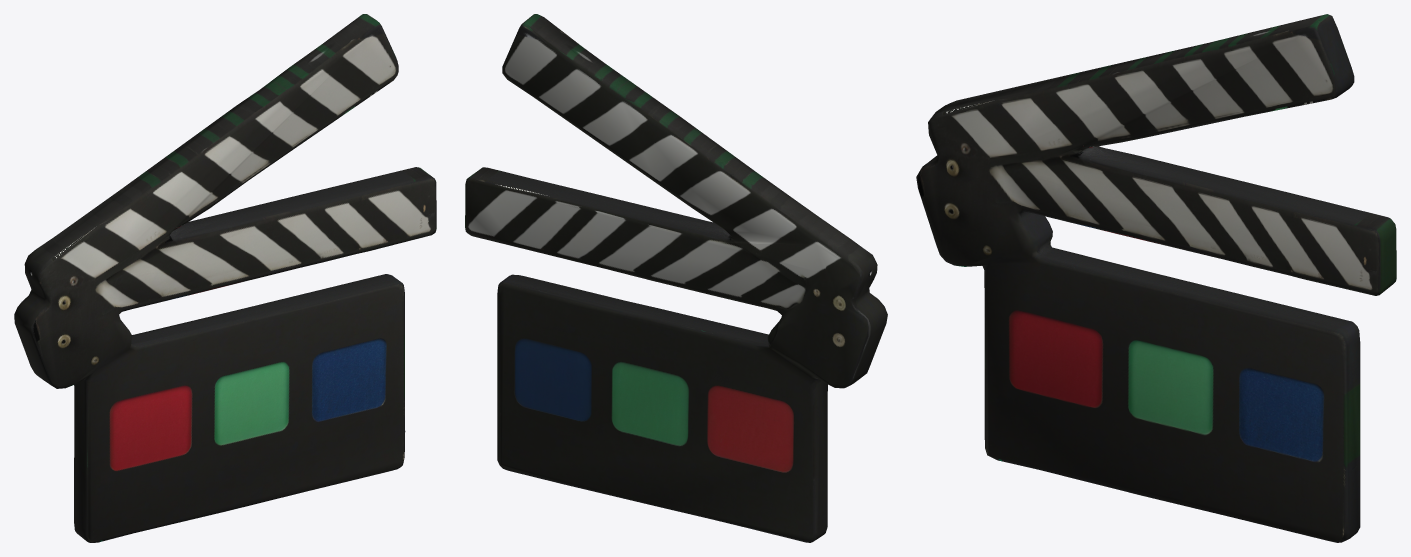
File: Clapper.glb
3 views of the same model, side by side, from view 1: azimuth 30°, elevation 25°; view 2: azimuth 150°, elevation 25°; view 3: azimuth 330°, elevation 25° (orthographic). The views are drawn at different scales.
Visible parts, largest first — view 1: Mesh_0; view 2: Mesh_0; view 3: Mesh_0.
Boxes of the visible parts, left/top/right/bottom form: Mesh_0: left=14, top=14, right=436, bottom=542; Mesh_0: left=465, top=14, right=887, bottom=542; Mesh_0: left=916, top=14, right=1396, bottom=542.
Bounding box in the file's own units: 1.34 × 1.42 × 0.1089.
Materials: 1 (1 with a texture image).
